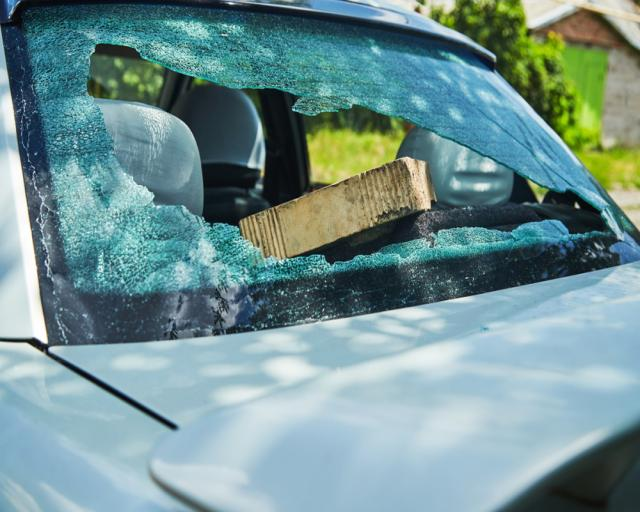glass shatter: (2, 0, 640, 345)
